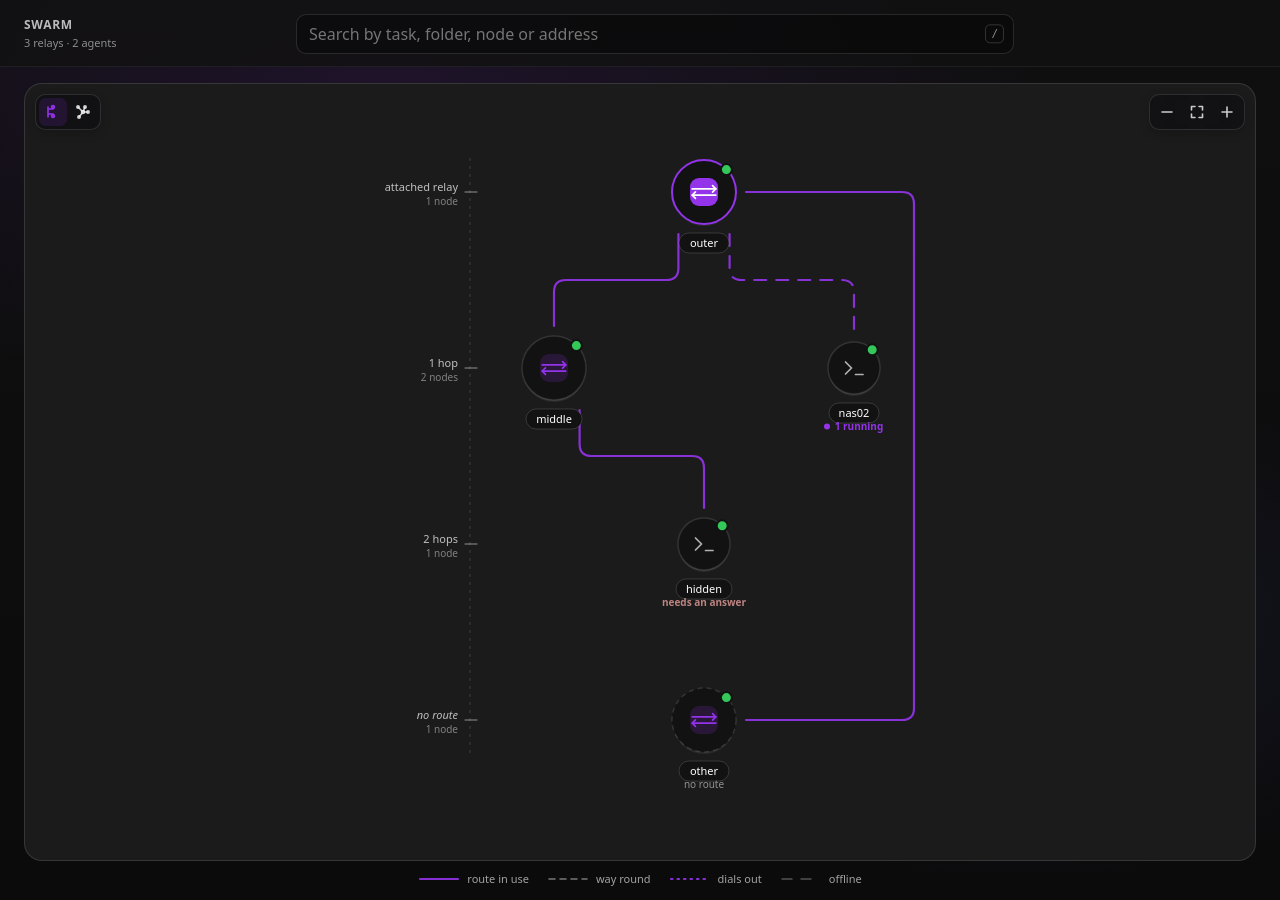
Scenario: SwarmView › names the route of a session several hops away
Step 1. Type "train" into the search field with test id "swarm-search" → (655, 34), box [296,14,1014,54]
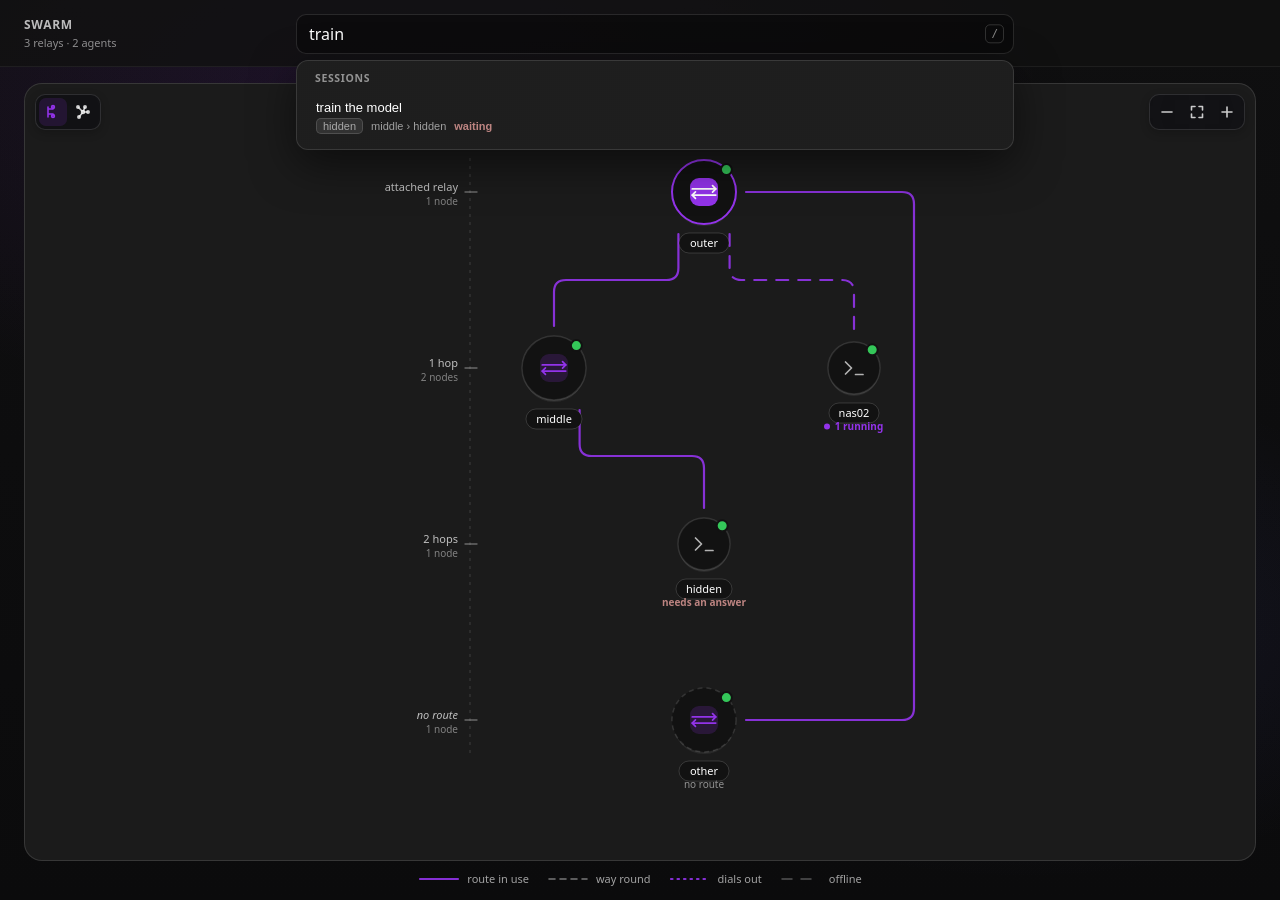
Check: the list with test id "swarm-results" shows "middle › hidden", box [303,91,1007,143]
